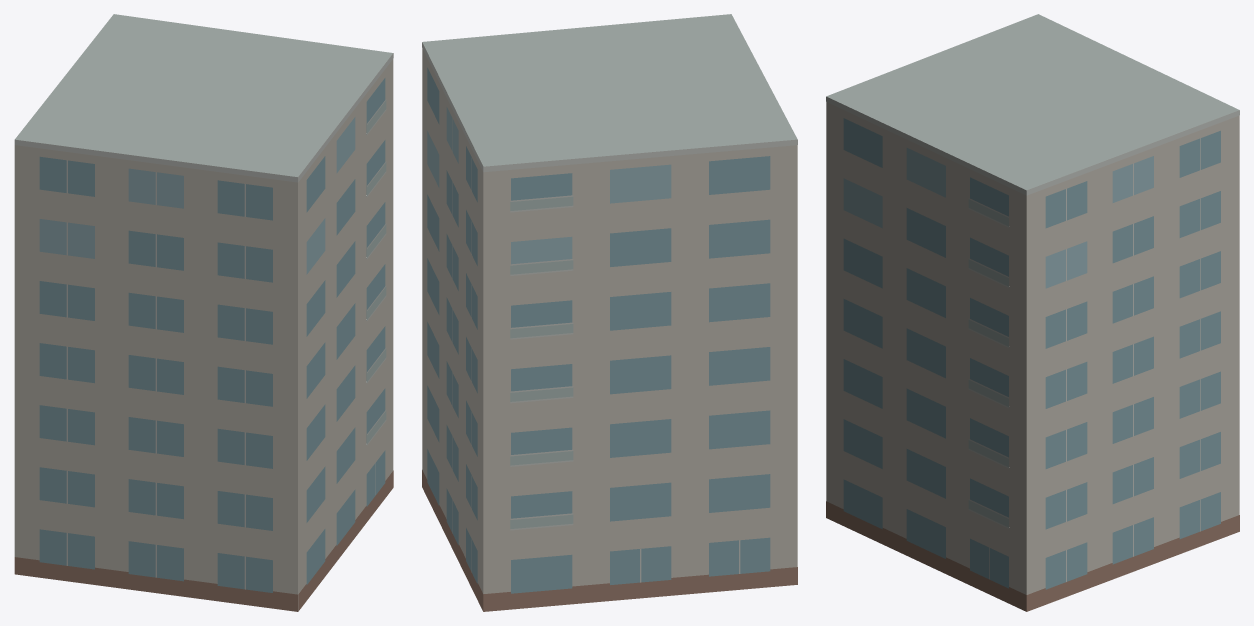
File: survey-upis-32890877.glb
3 views of the same model, side by side, from view 1: azimuth 30°, elevation 25°; view 2: azimuth 150°, elevation 25°; view 3: azimuth 270°, elevation 25° (orthographic). The views are drawn at different scales.
Visible parts, largest first — view 1: survey-upis-32890877.tmp; view 2: survey-upis-32890877.tmp; view 3: survey-upis-32890877.tmp.
Part boxes in pixels (x1=…): survey-upis-32890877.tmp: x1=14, y1=14, x2=393, y2=611; survey-upis-32890877.tmp: x1=422, y1=14, x2=797, y2=611; survey-upis-32890877.tmp: x1=826, y1=14, x2=1239, y2=611.
Size of the model in its own units: 17.51 by 19.5 by 17.35.
